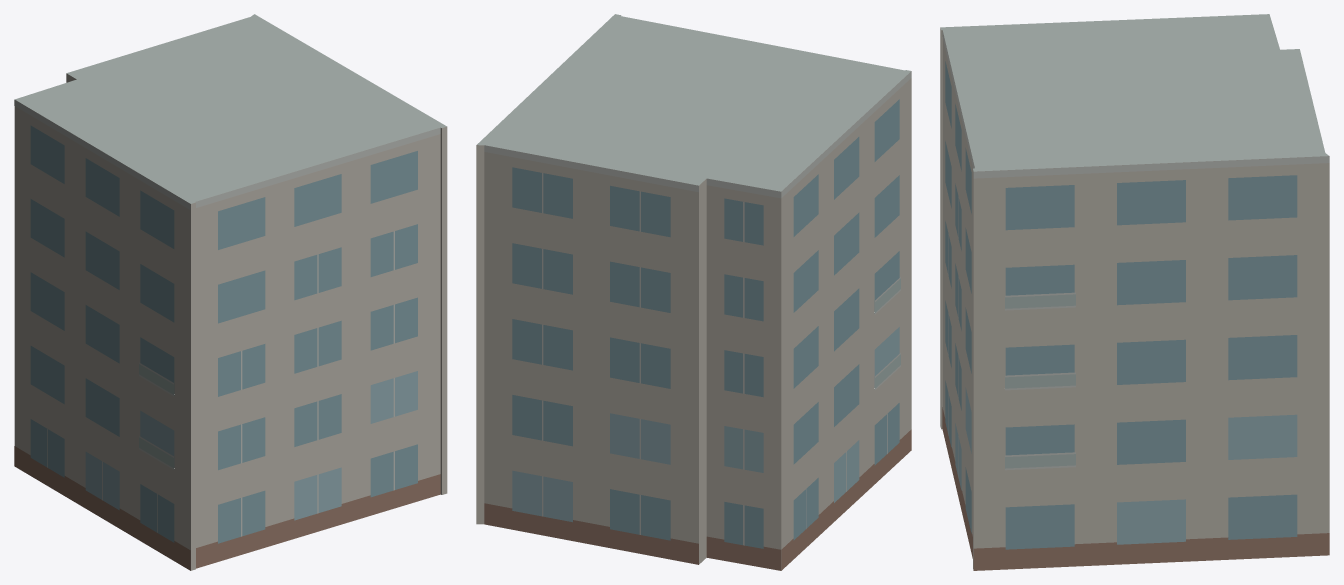
The model's file is survey-upis-32663623.glb.
3 renders of one model, left to right at view 1: azimuth 30°, elevation 25°; view 2: azimuth 150°, elevation 25°; view 3: azimuth 270°, elevation 25°, orthographic. The views are drawn at different scales.
Parts seen in each view (by area): view 1: survey-upis-32663623.tmp; view 2: survey-upis-32663623.tmp; view 3: survey-upis-32663623.tmp.
Boxes of the visible parts, bbox=[...] form: survey-upis-32663623.tmp: bbox=[14, 14, 447, 570]; survey-upis-32663623.tmp: bbox=[476, 14, 911, 570]; survey-upis-32663623.tmp: bbox=[940, 14, 1329, 570].
Bounding box in the file's own units: 11.78 × 13.9 × 12.28.
